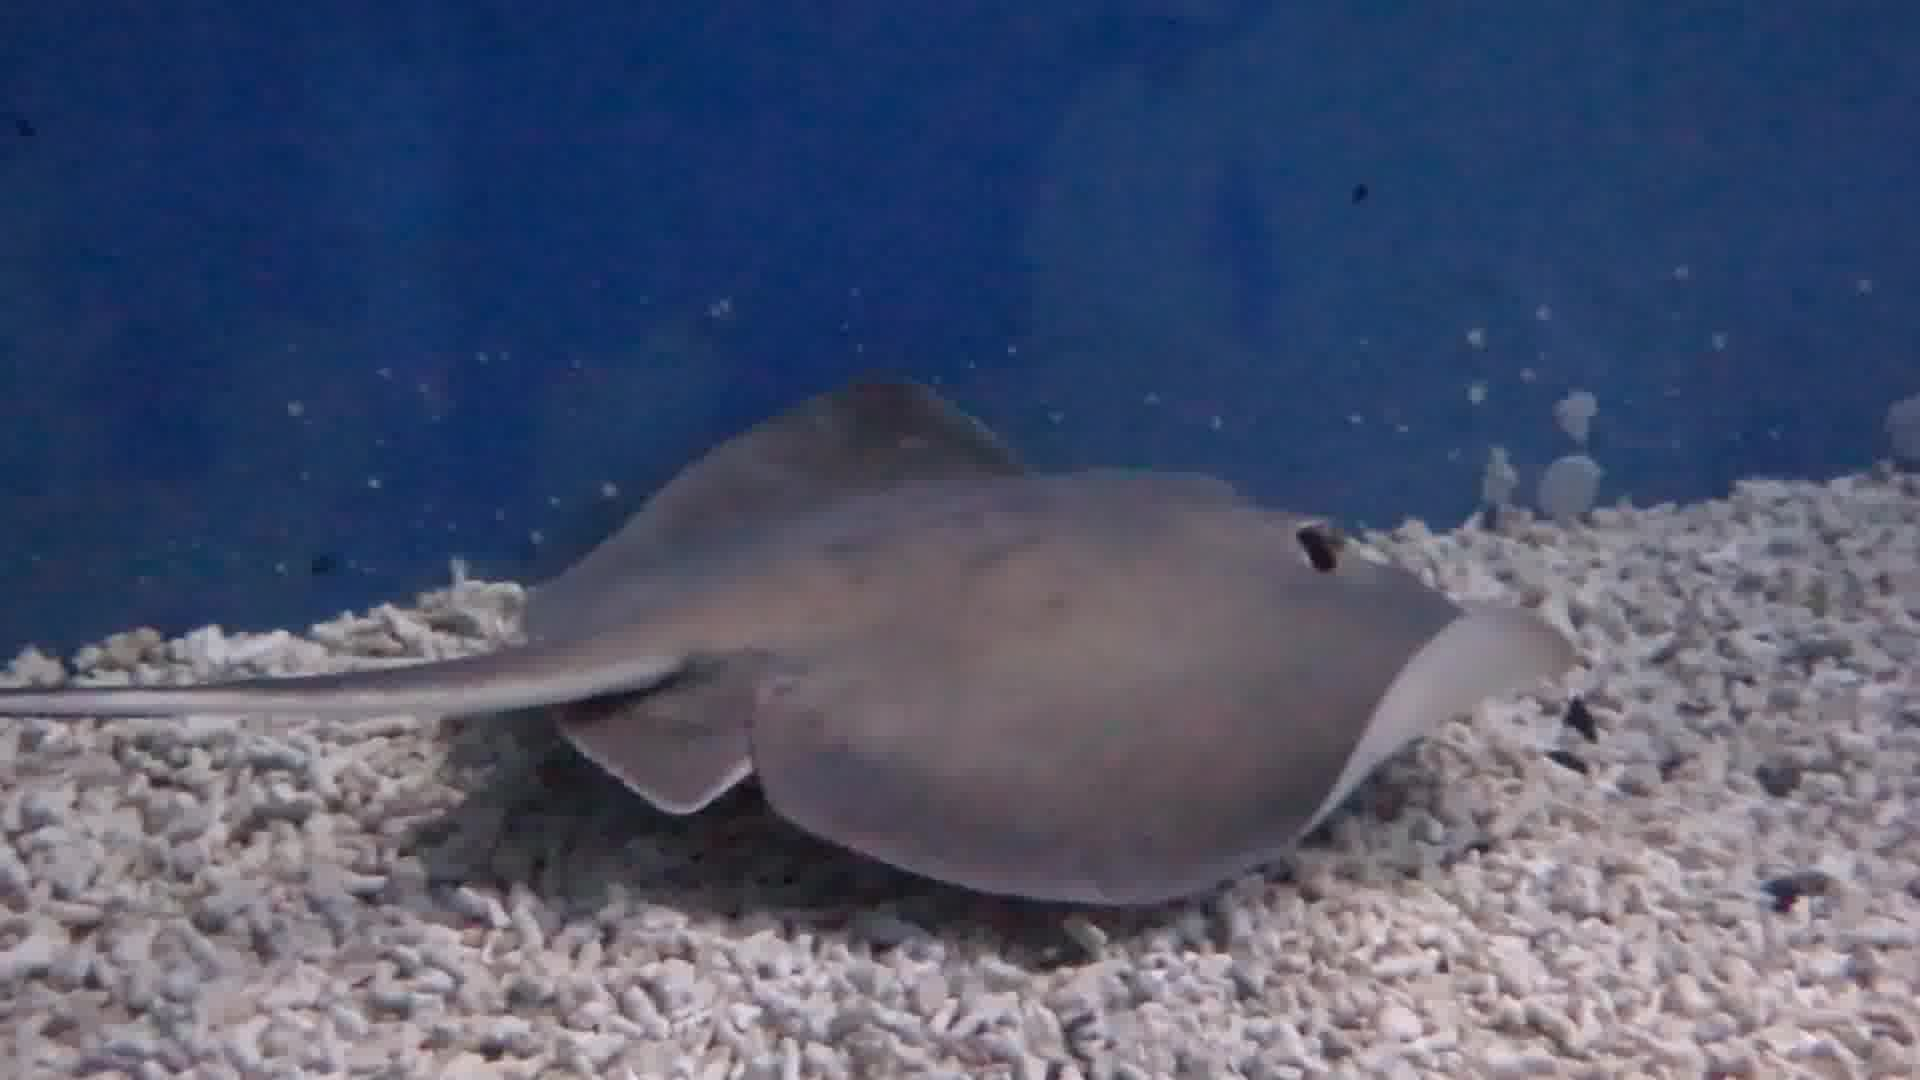Dasyatis bennetti: (440, 153, 1688, 994)
